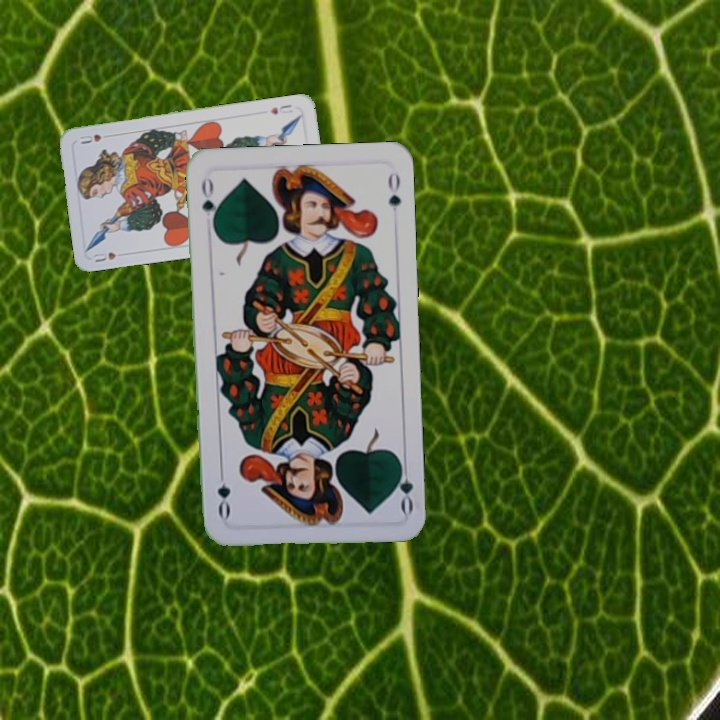GO: (390, 456, 416, 515), (197, 174, 221, 232)
HU: (90, 248, 118, 265), (266, 101, 295, 117)
